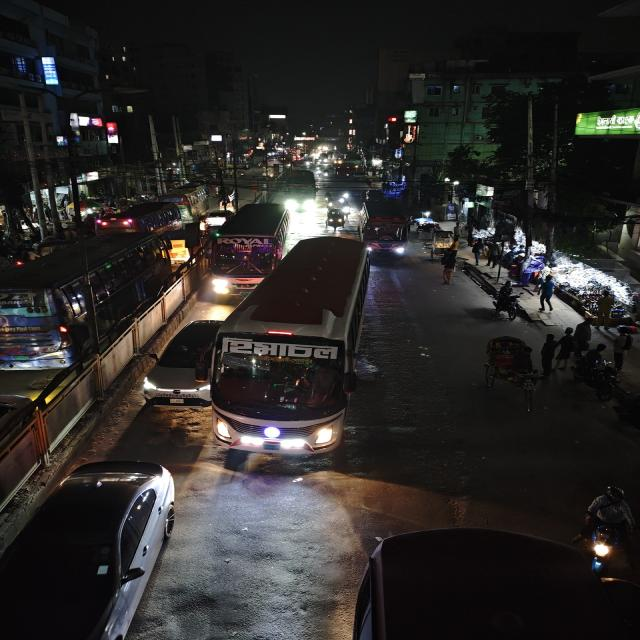bus: (213, 236, 373, 460), (349, 523, 639, 640), (0, 232, 157, 374), (208, 200, 292, 300), (358, 199, 413, 263), (282, 169, 318, 213)
car: (1, 458, 180, 640), (142, 316, 219, 406), (97, 201, 181, 234), (201, 209, 233, 227)
cng: (323, 207, 348, 231)
motorcycle: (578, 481, 640, 583), (571, 351, 623, 399), (489, 280, 532, 326)
pedestrian: (552, 328, 577, 372), (539, 331, 558, 371), (573, 318, 593, 352)
rickshaw: (478, 332, 546, 410)
